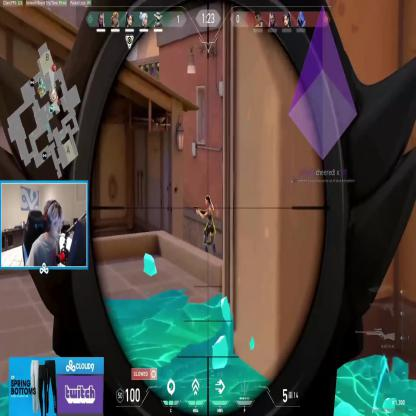enemy: (195, 195, 217, 254)
enemy_head: (204, 196, 210, 208)
